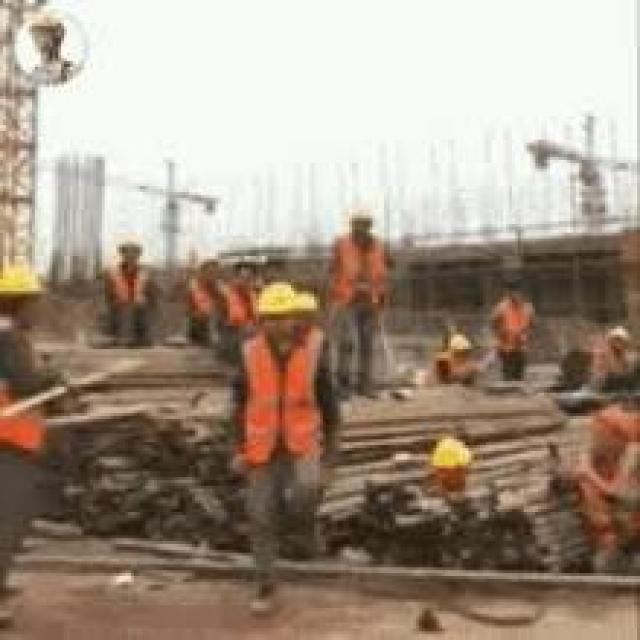Reflective-Jacket: (224, 311, 335, 477), (0, 309, 64, 456), (323, 230, 396, 320), (179, 282, 247, 339), (99, 262, 154, 326)
Safety-Helmet: (419, 428, 483, 483), (0, 260, 55, 297), (340, 198, 384, 235), (439, 326, 476, 354), (602, 319, 633, 346), (110, 232, 143, 251), (193, 250, 224, 267)
